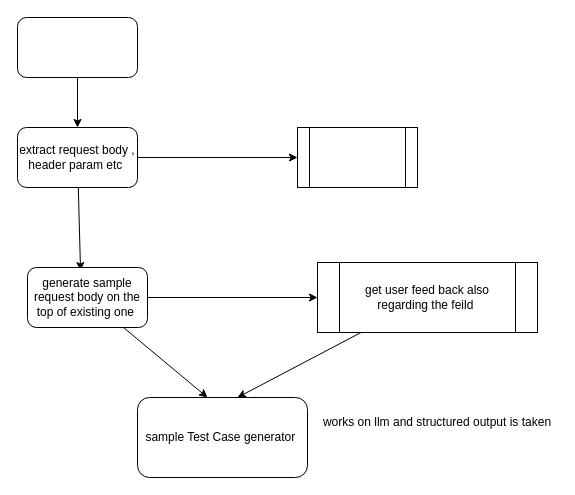
This 575x495 diagram has some shape labels left out. The shapes that lost their labels are listed below. From the top down, each one's centre as x and y in pixels, then its label:
At pixel 77 47: "curl".
At pixel 357 157: "log the same into entity".
